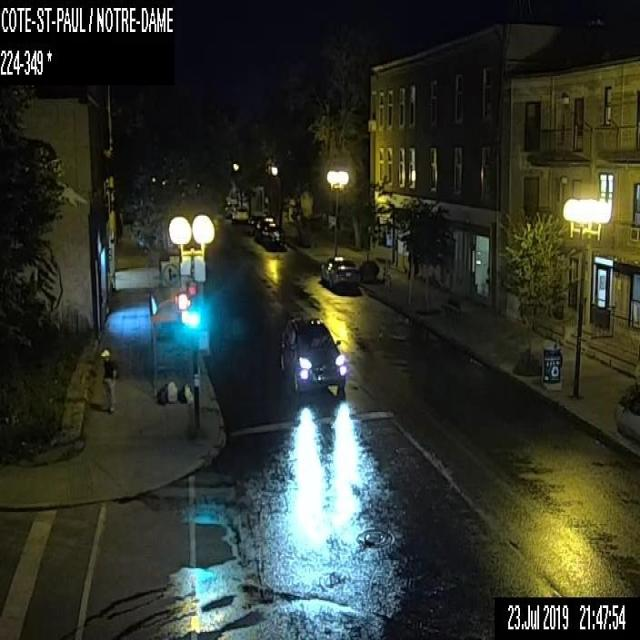pedestrian: (101, 348, 116, 412)
vehicle: (277, 317, 345, 392), (320, 255, 360, 290), (262, 223, 284, 248), (232, 205, 248, 221)
